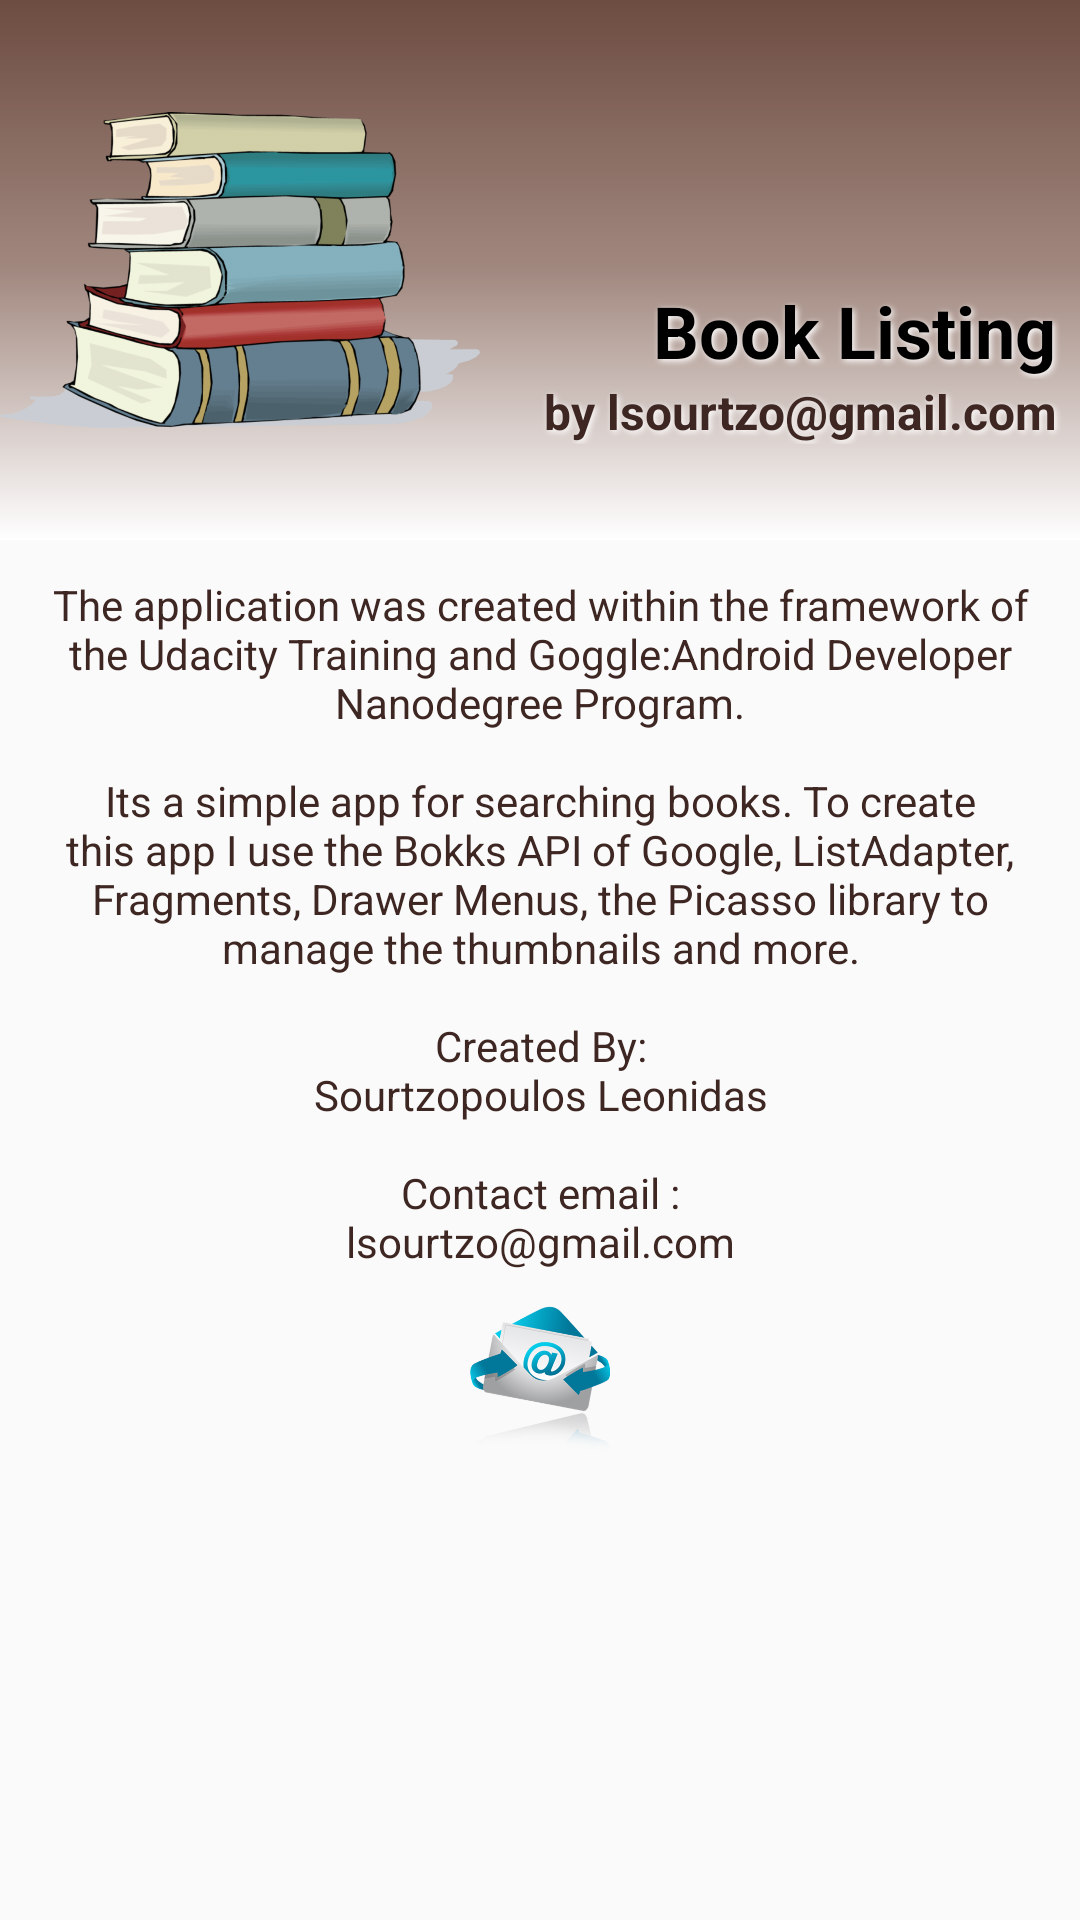

Icons on this 1080px x 1920px Android screen, each with its box as (x1, y1, x2, y2):
email: (470, 1306, 610, 1436)
